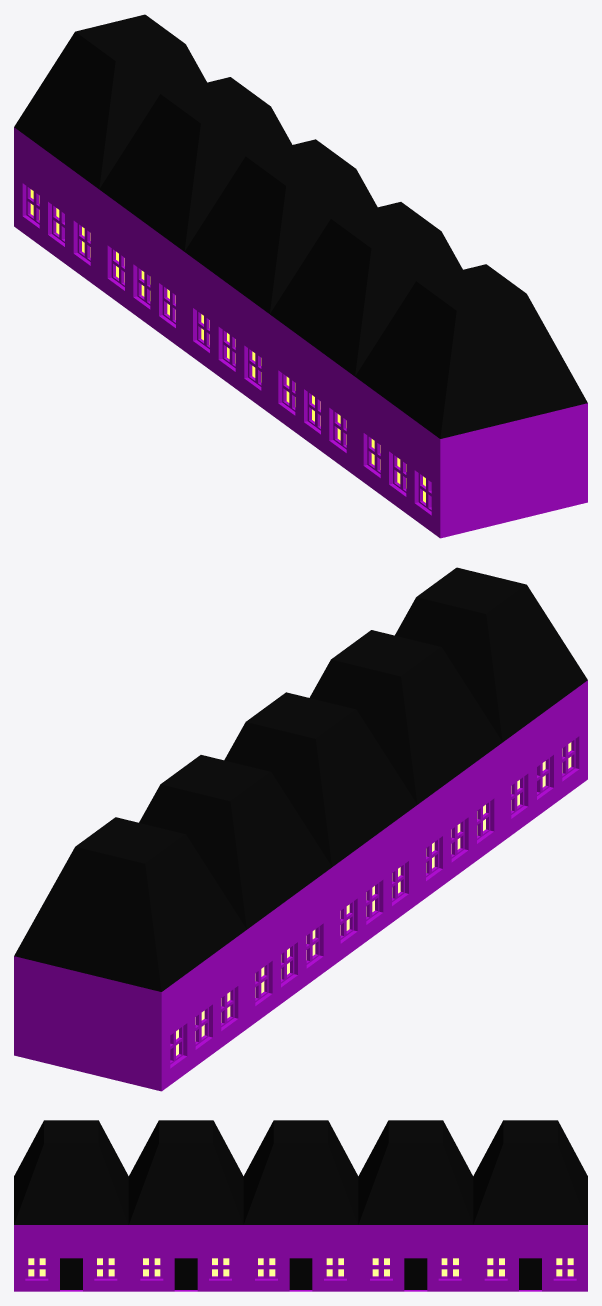
The model's file is bungalows_2(5).fbx.
The picture shows the model from 3 angles, top to bottom: view 1: azimuth 30°, elevation 25°; view 2: azimuth 150°, elevation 25°; view 3: azimuth 270°, elevation 25°; orthographic projection. The views are drawn at different scales.
Visible parts, largest first — view 1: Cube; view 2: Cube; view 3: Cube.
Part boxes in pixels (box(x1,y1,x2,y2)): Cube: box(14, 14, 587, 538); Cube: box(14, 567, 587, 1091); Cube: box(14, 1120, 587, 1291).
Size of the model in its own units: 28 by 36.56 by 140.
